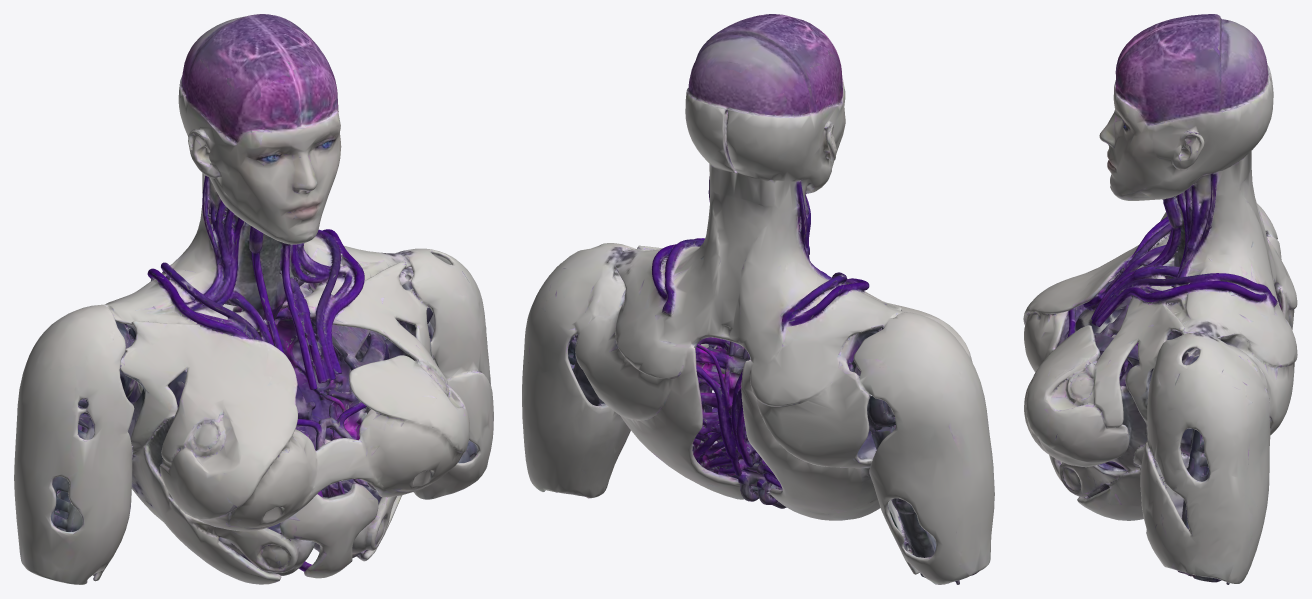
Rendered from robot.glb.
3 views of the same model, side by side, from view 1: azimuth 30°, elevation 25°; view 2: azimuth 150°, elevation 25°; view 3: azimuth 270°, elevation 25° (orthographic). The views are drawn at different scales.
Parts seen in each view (by area): view 1: Mesh_0; view 2: Mesh_0; view 3: Mesh_0.
Part boxes in pixels (box(x1,y1,x2,y2)): Mesh_0: box(14, 14, 493, 584); Mesh_0: box(522, 14, 994, 584); Mesh_0: box(1023, 14, 1297, 584).
Size of the model in its own units: 1.8 by 1.91 by 0.9966.
Materials: 1 (1 with a texture image).
